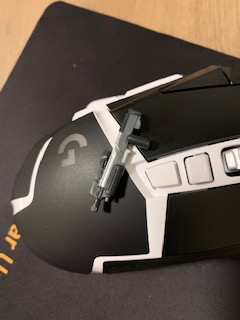rifle: (85, 106, 152, 214)
